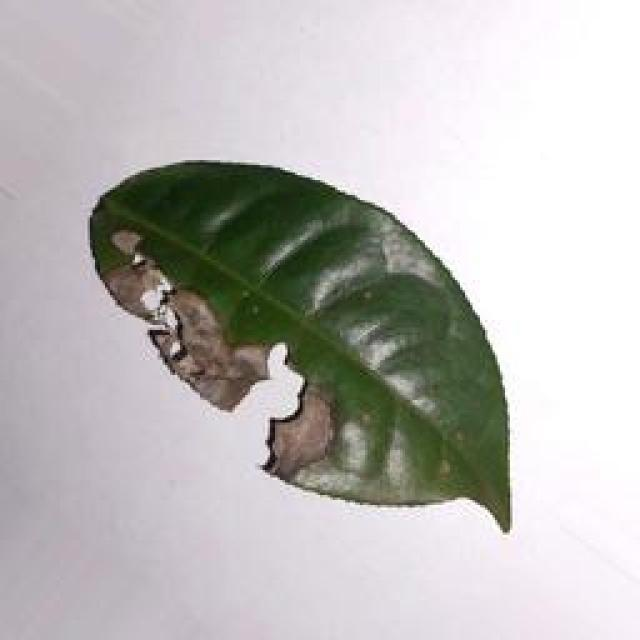Brown Blight: (78, 158, 515, 530)
